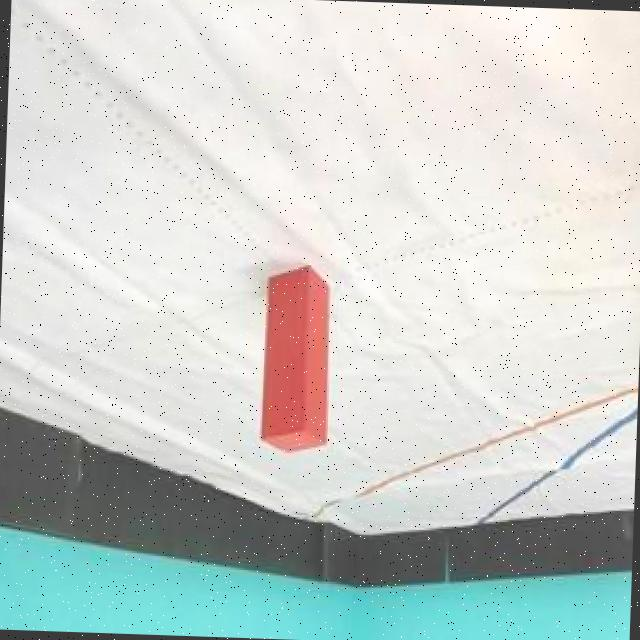redbox: (258, 264, 333, 459)
